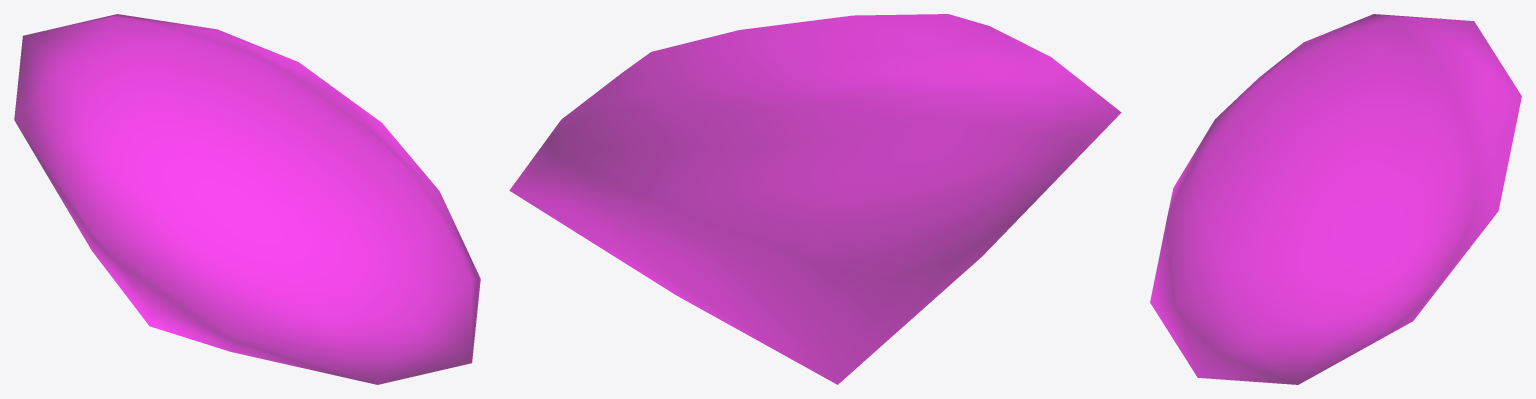
File: crystalPink.fbx
The picture shows the model from 3 angles, left to right: view 1: azimuth 30°, elevation 25°; view 2: azimuth 150°, elevation 25°; view 3: azimuth 270°, elevation 25°; orthographic projection. The views are drawn at different scales.
Visible parts, largest first — view 1: Gem_003; view 2: Gem_003; view 3: Gem_003.
Boxes of the visible parts, bbox=[...] form: Gem_003: bbox=[14, 14, 480, 384]; Gem_003: bbox=[509, 14, 1121, 384]; Gem_003: bbox=[1150, 14, 1521, 384].
Bounding box in the file's own units: 2.07 × 1.35 × 1.85.
